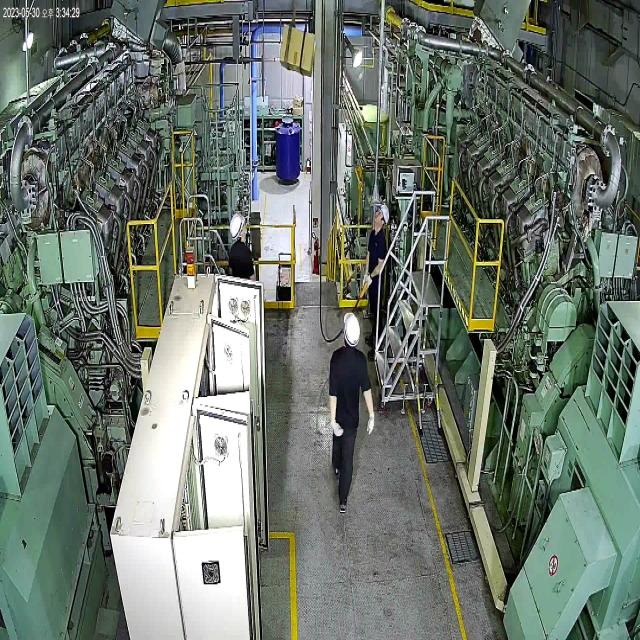Water Tank: (273, 110, 306, 190)
worker: (327, 305, 378, 519), (364, 198, 394, 362), (223, 210, 259, 288)
